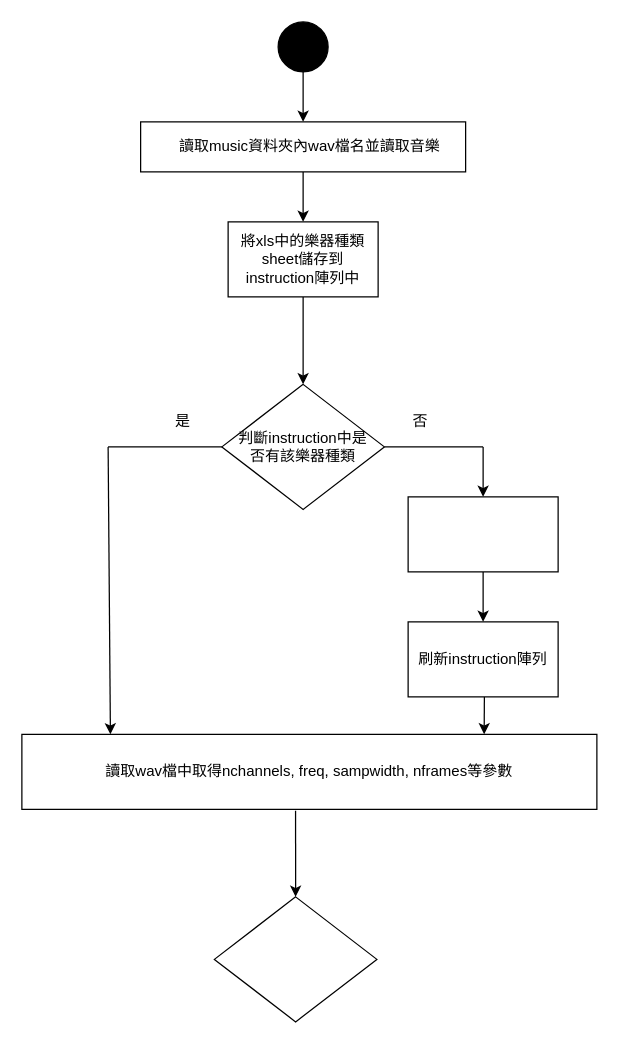
This 619x1044 diagram has some shape labels left out. Each missing label, with the centre of its shape:
"判斷channel？" belongs at (295,959).
"在xls的workbook中新增該樂器sheet" belongs at (482,534).
